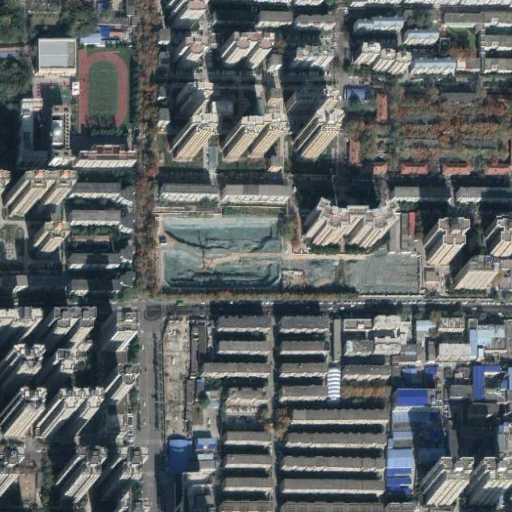cw: (152, 213, 419, 297)
